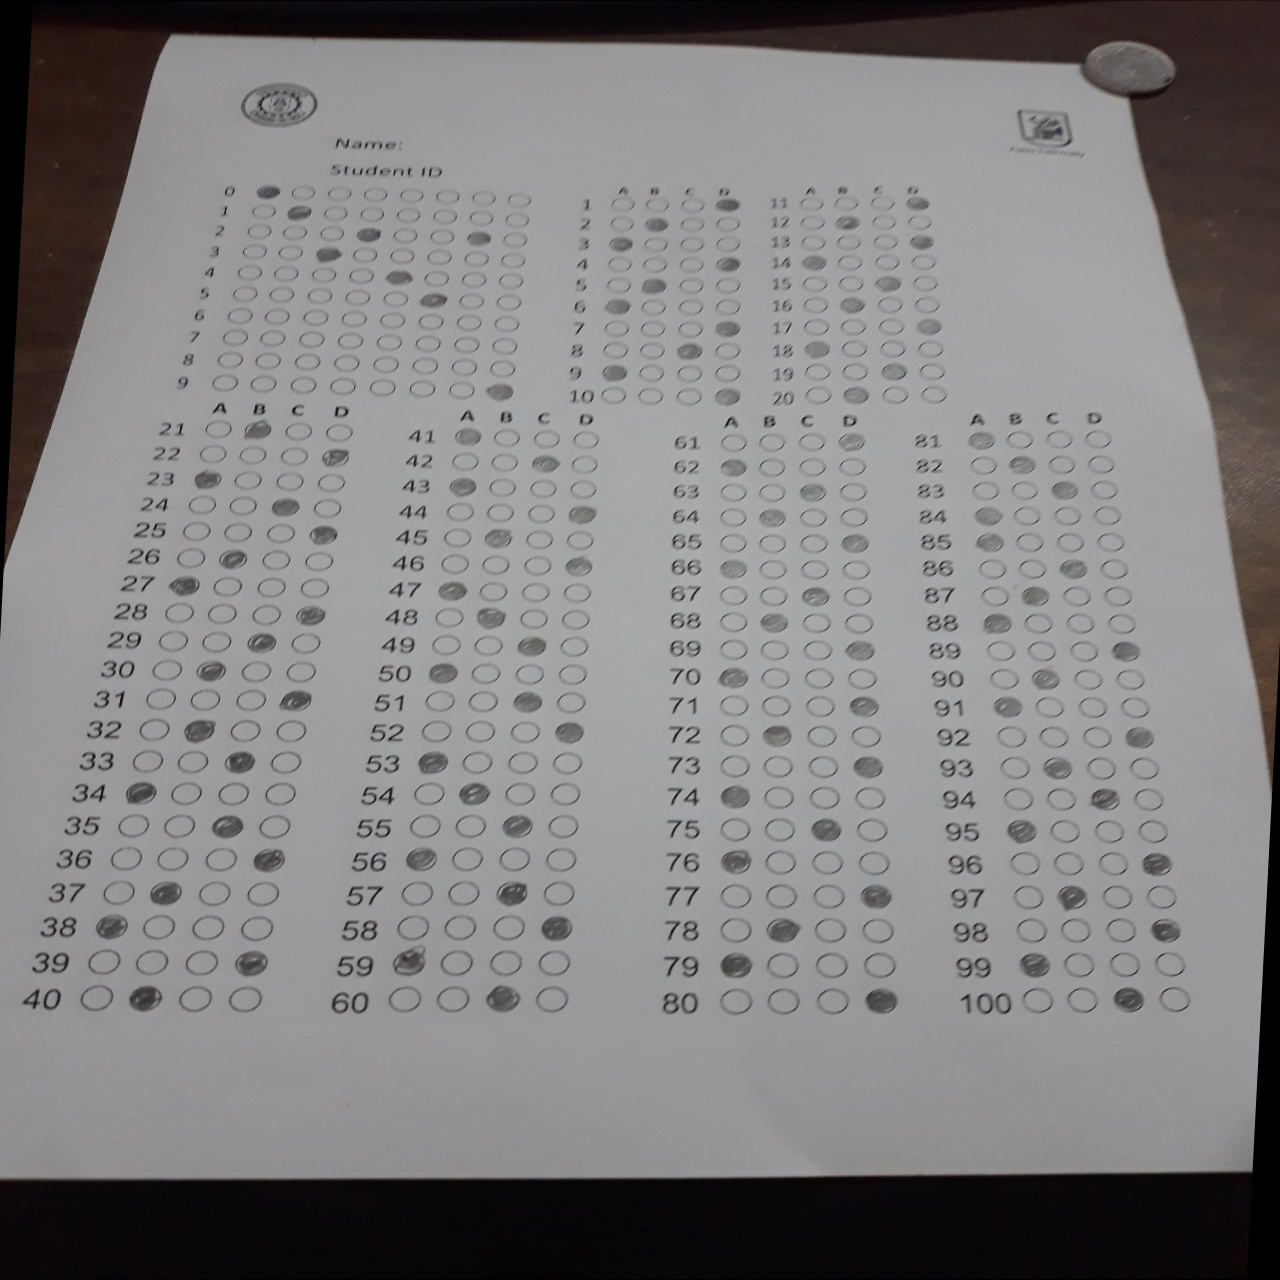not-c: (135, 947, 173, 974), (434, 983, 470, 1012), (442, 912, 479, 939), (449, 844, 486, 871), (173, 747, 212, 772), (188, 685, 226, 710), (397, 913, 434, 940), (452, 813, 489, 840), (457, 750, 493, 777), (462, 715, 498, 742), (806, 783, 843, 810), (256, 813, 293, 839), (263, 779, 300, 805), (268, 719, 306, 744), (436, 949, 474, 975), (445, 880, 483, 906), (467, 686, 504, 712), (468, 658, 505, 683), (230, 982, 263, 1012), (246, 880, 280, 908), (98, 878, 137, 903), (139, 915, 178, 940), (865, 951, 900, 978), (719, 986, 754, 1013), (813, 951, 849, 978), (767, 951, 802, 978), (717, 915, 753, 942), (810, 847, 845, 874), (764, 847, 799, 874), (720, 751, 755, 778), (717, 720, 753, 747), (802, 693, 837, 720), (717, 527, 753, 554), (268, 748, 305, 774), (284, 658, 320, 683), (287, 629, 324, 655), (389, 986, 425, 1012), (857, 851, 893, 877), (859, 915, 896, 941), (813, 919, 850, 945), (760, 783, 796, 809), (803, 723, 839, 749), (156, 845, 193, 870), (168, 779, 205, 804), (199, 628, 237, 653), (179, 985, 212, 1013), (240, 912, 273, 940), (719, 881, 753, 908), (765, 883, 799, 910), (806, 753, 840, 779), (719, 692, 753, 719), (855, 817, 890, 843), (813, 988, 849, 1014), (767, 988, 802, 1014), (811, 881, 846, 907), (763, 815, 798, 840), (719, 816, 754, 842), (761, 753, 796, 778), (758, 693, 794, 719), (798, 663, 833, 689), (77, 985, 114, 1009), (165, 813, 202, 838), (1020, 987, 1056, 1012), (796, 554, 829, 581), (113, 813, 150, 837), (108, 845, 145, 869), (86, 948, 123, 972), (1013, 918, 1050, 941), (1012, 530, 1049, 553), (760, 663, 794, 689), (799, 610, 833, 635), (756, 529, 790, 554), (757, 556, 791, 581), (470, 632, 505, 656), (476, 578, 511, 602), (488, 447, 523, 471), (543, 847, 578, 872), (486, 949, 522, 974), (535, 949, 570, 974), (799, 636, 835, 661), (716, 608, 751, 633), (1010, 883, 1046, 907), (1064, 987, 1099, 1012), (409, 813, 445, 837), (478, 551, 515, 574), (1062, 952, 1098, 975), (1057, 918, 1094, 941), (1036, 723, 1073, 747), (1022, 639, 1058, 662), (1022, 611, 1058, 634), (758, 636, 791, 662), (1101, 883, 1133, 908), (1105, 917, 1138, 942), (1158, 986, 1191, 1012), (486, 475, 520, 499), (542, 881, 576, 906), (535, 986, 568, 1010), (717, 635, 751, 660), (717, 581, 751, 606), (760, 583, 794, 607), (794, 530, 828, 554), (796, 503, 830, 527), (1133, 787, 1167, 811), (1092, 530, 1126, 554), (400, 881, 437, 904), (197, 881, 232, 905), (302, 547, 338, 571), (309, 497, 345, 520), (314, 470, 349, 493), (483, 501, 518, 524), (497, 846, 532, 870), (1046, 785, 1081, 809), (1013, 558, 1048, 581), (1012, 502, 1047, 525), (1110, 951, 1142, 976), (1155, 951, 1186, 976), (1145, 883, 1177, 908), (1008, 852, 1044, 874), (1051, 852, 1088, 874), (1048, 821, 1084, 843), (1130, 755, 1163, 779), (1115, 667, 1148, 692), (1107, 612, 1139, 636), (1099, 558, 1132, 583), (191, 915, 225, 939), (186, 951, 220, 974), (298, 576, 332, 599), (428, 631, 462, 654), (493, 915, 527, 939), (1087, 451, 1121, 475), (435, 551, 470, 573), (1071, 668, 1107, 690), (1098, 851, 1130, 876), (1138, 817, 1170, 842), (1121, 696, 1152, 721), (1103, 583, 1135, 607), (226, 491, 259, 515), (279, 442, 312, 465), (250, 602, 282, 626), (236, 686, 268, 709), (216, 782, 248, 805), (1092, 504, 1125, 527), (1088, 477, 1121, 501), (449, 450, 483, 472), (443, 524, 477, 546), (433, 607, 467, 629), (423, 689, 457, 712), (420, 720, 454, 742), (414, 781, 448, 803), (855, 788, 888, 810), (1032, 696, 1065, 719), (1041, 428, 1075, 450), (1055, 529, 1089, 551), (1061, 583, 1095, 605), (1065, 613, 1099, 635), (1077, 696, 1111, 719), (1080, 726, 1114, 748), (238, 443, 270, 467), (274, 467, 306, 490), (241, 659, 273, 682), (222, 519, 254, 542), (282, 418, 315, 441), (263, 520, 295, 543), (256, 574, 288, 597), (322, 418, 355, 441), (1084, 424, 1117, 447), (445, 501, 479, 522), (559, 608, 593, 629), (796, 455, 830, 476), (753, 456, 787, 477), (987, 668, 1021, 689), (1006, 429, 1040, 450), (1046, 452, 1080, 474), (1053, 505, 1087, 526), (1067, 640, 1101, 661), (1084, 757, 1118, 778), (1092, 821, 1126, 842), (206, 601, 238, 624), (210, 573, 241, 595), (233, 467, 265, 489), (261, 546, 293, 568), (231, 719, 263, 741), (205, 847, 237, 870), (508, 750, 539, 772), (504, 784, 536, 806), (550, 782, 581, 804), (492, 425, 525, 447), (527, 425, 560, 447), (567, 478, 600, 499), (527, 477, 560, 498), (524, 527, 557, 549), (520, 554, 553, 576), (558, 635, 591, 656), (557, 663, 590, 685), (515, 663, 547, 685), (719, 505, 751, 526), (754, 481, 787, 502), (755, 430, 788, 451), (798, 429, 831, 450), (719, 430, 751, 451), (985, 640, 1017, 661), (995, 727, 1028, 748), (1000, 756, 1033, 777), (1003, 788, 1036, 809), (163, 600, 193, 622), (145, 687, 176, 709), (549, 815, 579, 837), (515, 608, 549, 628), (181, 520, 212, 542), (551, 753, 583, 774), (1010, 479, 1042, 501), (571, 425, 604, 445), (568, 451, 601, 471), (526, 502, 559, 522), (522, 580, 554, 600), (564, 529, 597, 549), (563, 581, 595, 601), (553, 692, 586, 712), (846, 668, 879, 688), (716, 481, 749, 501), (132, 749, 162, 771), (838, 454, 867, 476), (177, 547, 207, 568), (157, 629, 188, 651), (139, 719, 170, 740), (510, 722, 542, 742), (842, 558, 870, 580), (973, 478, 1001, 501), (152, 658, 182, 679), (968, 454, 998, 475), (840, 586, 873, 605), (842, 612, 874, 631), (840, 482, 869, 503), (979, 559, 1007, 580), (980, 587, 1008, 608), (188, 495, 218, 513), (839, 508, 867, 527), (852, 727, 881, 745), (805, 318, 832, 338), (674, 386, 701, 406), (599, 386, 626, 406), (604, 316, 631, 336), (503, 209, 530, 229), (457, 290, 484, 309), (380, 311, 407, 331), (395, 202, 422, 222), (345, 290, 372, 309), (341, 309, 368, 329), (291, 374, 318, 394), (240, 241, 267, 261), (799, 192, 828, 211), (445, 380, 474, 399), (452, 314, 481, 333), (302, 307, 331, 326), (309, 264, 338, 282), (878, 384, 907, 402), (876, 318, 905, 335), (715, 365, 741, 384), (463, 248, 489, 268), (277, 243, 302, 263), (804, 386, 831, 404), (805, 361, 832, 380), (803, 295, 830, 314), (798, 232, 825, 251), (715, 213, 742, 232), (714, 233, 741, 252), (714, 297, 741, 315), (714, 340, 741, 359), (674, 362, 701, 381), (678, 319, 704, 338), (679, 297, 706, 315), (679, 195, 706, 213), (678, 215, 704, 233), (644, 195, 670, 213), (644, 234, 670, 253), (644, 254, 670, 273), (639, 341, 666, 360), (636, 386, 663, 404), (606, 275, 633, 294), (503, 230, 530, 248), (501, 251, 527, 270), (497, 271, 524, 290), (493, 314, 520, 333), (492, 336, 519, 355), (491, 359, 518, 377), (451, 356, 478, 375), (454, 335, 481, 354), (461, 268, 488, 287), (469, 206, 496, 225), (436, 186, 463, 205), (433, 207, 459, 226), (430, 226, 457, 245), (425, 246, 452, 265), (423, 268, 450, 287), (418, 312, 445, 331), (415, 334, 442, 353), (411, 356, 438, 375), (409, 377, 436, 396), (369, 377, 396, 396), (372, 354, 399, 373), (376, 333, 403, 352), (381, 290, 408, 308), (392, 223, 418, 241), (396, 183, 423, 202), (363, 184, 390, 203), (359, 205, 386, 224), (350, 245, 377, 264), (347, 268, 374, 287), (338, 331, 365, 349), (333, 354, 360, 373), (331, 376, 358, 395), (293, 350, 320, 369), (299, 329, 326, 348), (307, 285, 334, 304), (318, 223, 345, 241), (324, 203, 350, 222), (290, 183, 316, 202), (281, 223, 308, 241), (272, 264, 299, 282), (267, 285, 294, 304), (259, 328, 286, 347), (256, 350, 282, 369), (251, 374, 278, 393), (212, 373, 239, 392), (216, 349, 243, 368), (222, 328, 248, 347), (225, 307, 252, 326), (231, 284, 258, 302), (248, 222, 275, 240), (250, 200, 277, 219), (203, 418, 230, 437), (199, 443, 226, 462), (878, 339, 906, 356), (872, 230, 900, 247), (840, 316, 869, 334), (799, 212, 828, 230), (680, 256, 706, 274), (639, 319, 665, 338), (601, 340, 627, 359), (610, 192, 635, 211), (326, 182, 352, 200), (908, 253, 938, 270), (912, 295, 941, 312), (831, 192, 860, 209), (837, 275, 866, 292), (915, 339, 942, 356), (840, 340, 867, 358), (801, 274, 828, 292), (715, 274, 742, 292), (678, 275, 704, 293), (678, 234, 704, 252), (641, 297, 668, 314), (638, 363, 665, 381), (610, 215, 636, 232), (504, 190, 531, 207), (496, 294, 523, 312), (387, 245, 414, 263), (264, 307, 291, 325), (236, 263, 263, 280), (910, 273, 938, 290), (919, 362, 947, 379), (920, 386, 948, 402), (874, 252, 903, 268), (869, 193, 897, 210), (835, 234, 863, 251), (836, 253, 864, 270), (840, 363, 869, 380), (606, 253, 632, 271), (471, 186, 497, 204), (906, 213, 934, 229), (876, 297, 904, 312), (869, 213, 897, 229)
taken-c: (719, 951, 756, 978), (406, 844, 441, 872), (415, 748, 450, 776), (278, 687, 313, 715), (719, 849, 755, 876), (551, 719, 587, 745), (719, 783, 756, 809), (538, 915, 576, 941), (234, 949, 268, 978), (252, 845, 286, 873), (128, 983, 163, 1010), (95, 912, 130, 939), (1112, 985, 1146, 1012), (1019, 951, 1053, 978), (849, 755, 883, 782), (392, 949, 425, 976), (864, 987, 898, 1013), (846, 693, 880, 719), (843, 639, 877, 665), (493, 881, 527, 907), (485, 987, 519, 1013), (765, 917, 801, 941), (860, 883, 893, 908), (445, 474, 479, 498), (499, 813, 532, 838), (456, 782, 489, 806), (435, 578, 468, 602), (1055, 885, 1089, 908), (1148, 918, 1182, 941), (482, 526, 516, 550), (451, 423, 485, 447), (837, 532, 870, 556), (567, 503, 600, 526), (427, 660, 459, 683), (268, 496, 301, 519), (195, 659, 227, 682), (309, 522, 342, 545), (1005, 452, 1039, 475), (1005, 819, 1039, 842), (475, 607, 509, 629), (837, 429, 869, 452), (295, 602, 327, 626), (245, 631, 277, 654), (183, 720, 215, 743), (191, 467, 223, 490), (972, 504, 1005, 526), (975, 531, 1008, 553), (809, 818, 842, 840), (719, 666, 751, 688), (563, 554, 595, 577), (516, 635, 549, 658), (222, 750, 254, 772), (149, 881, 182, 904), (168, 573, 200, 595), (212, 813, 243, 837), (125, 781, 156, 804), (1022, 585, 1054, 607), (1090, 787, 1122, 809), (719, 558, 750, 580), (717, 456, 749, 478), (319, 445, 350, 468), (240, 418, 272, 441), (217, 547, 248, 570), (990, 697, 1023, 719), (531, 452, 564, 474), (1110, 641, 1142, 662), (1057, 557, 1089, 578), (1048, 481, 1080, 502), (980, 613, 1012, 634), (1028, 670, 1060, 692), (1042, 756, 1074, 777), (1123, 726, 1155, 747), (1141, 853, 1172, 874), (762, 724, 794, 745), (799, 586, 829, 608), (967, 431, 998, 452), (758, 505, 787, 527), (760, 611, 788, 633), (512, 690, 542, 712), (799, 481, 828, 502), (485, 381, 513, 401), (842, 386, 869, 404), (713, 256, 740, 274), (714, 387, 741, 406), (641, 277, 668, 295), (644, 215, 670, 233), (384, 268, 411, 287), (799, 254, 828, 272), (420, 290, 445, 308), (903, 195, 932, 211), (880, 362, 907, 380), (835, 213, 862, 231), (606, 233, 633, 251), (602, 297, 629, 314), (600, 362, 627, 380), (467, 229, 493, 246), (839, 295, 865, 313), (714, 196, 740, 213), (715, 320, 741, 338), (676, 341, 702, 359), (315, 245, 341, 263), (287, 204, 313, 222), (256, 183, 281, 200), (805, 340, 830, 358), (355, 224, 380, 241), (906, 233, 934, 248), (914, 319, 942, 334), (874, 275, 903, 291)
